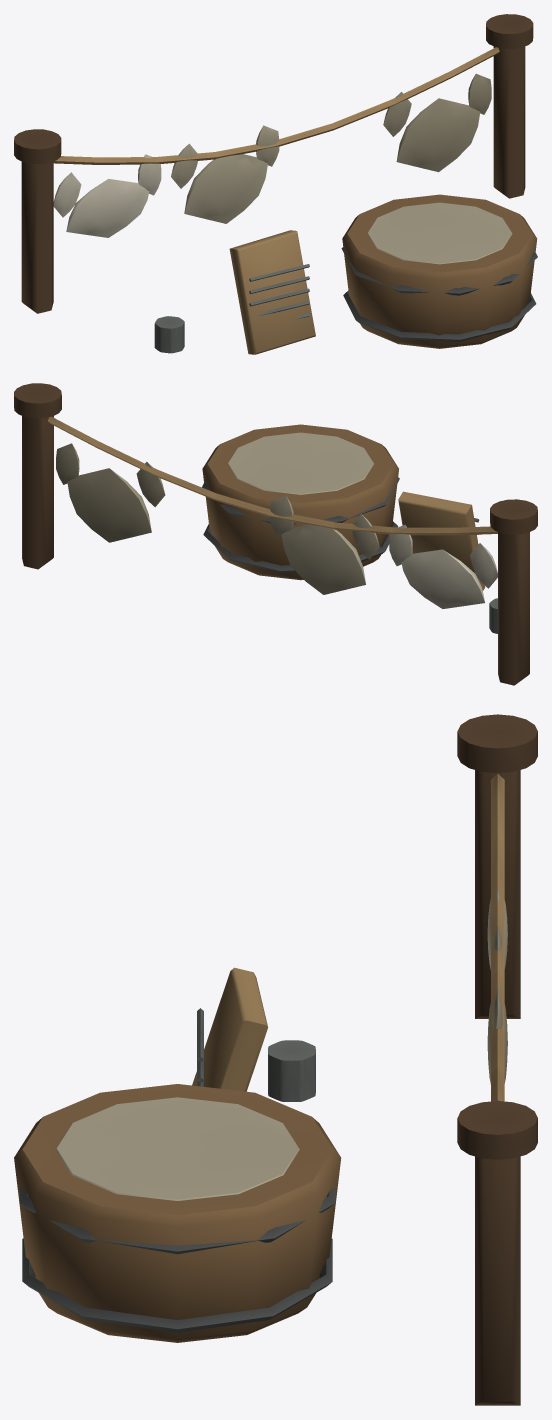
File: washline_b.glb
3 renders of one model, top to bottom at view 1: azimuth 30°, elevation 25°; view 2: azimuth 150°, elevation 25°; view 3: azimuth 270°, elevation 25°, orthographic. The views are drawn at different scales.
Visible parts, largest first — view 1: Surface; view 2: Surface; view 3: Surface.
Part boxes in pixels (x1,y1,x2,y2): Surface: (14,14,537,354); Surface: (14,383,537,685); Surface: (14,714,537,1405).
Bounding box in the file's own units: 4.35 × 1.46 × 2.29.
